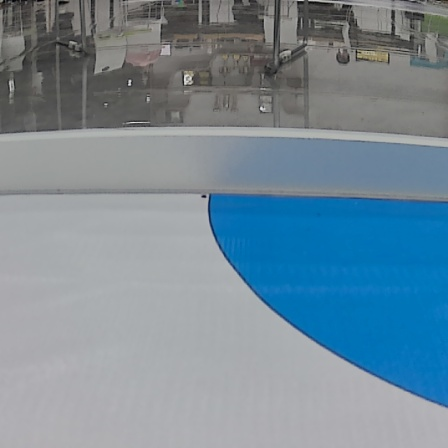blue_base: (200, 191, 448, 408)
